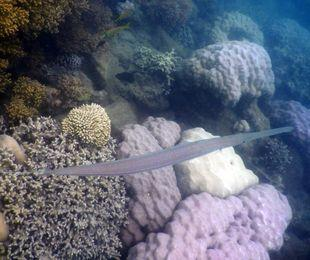Fistularia commersonii: (30, 117, 297, 202)
